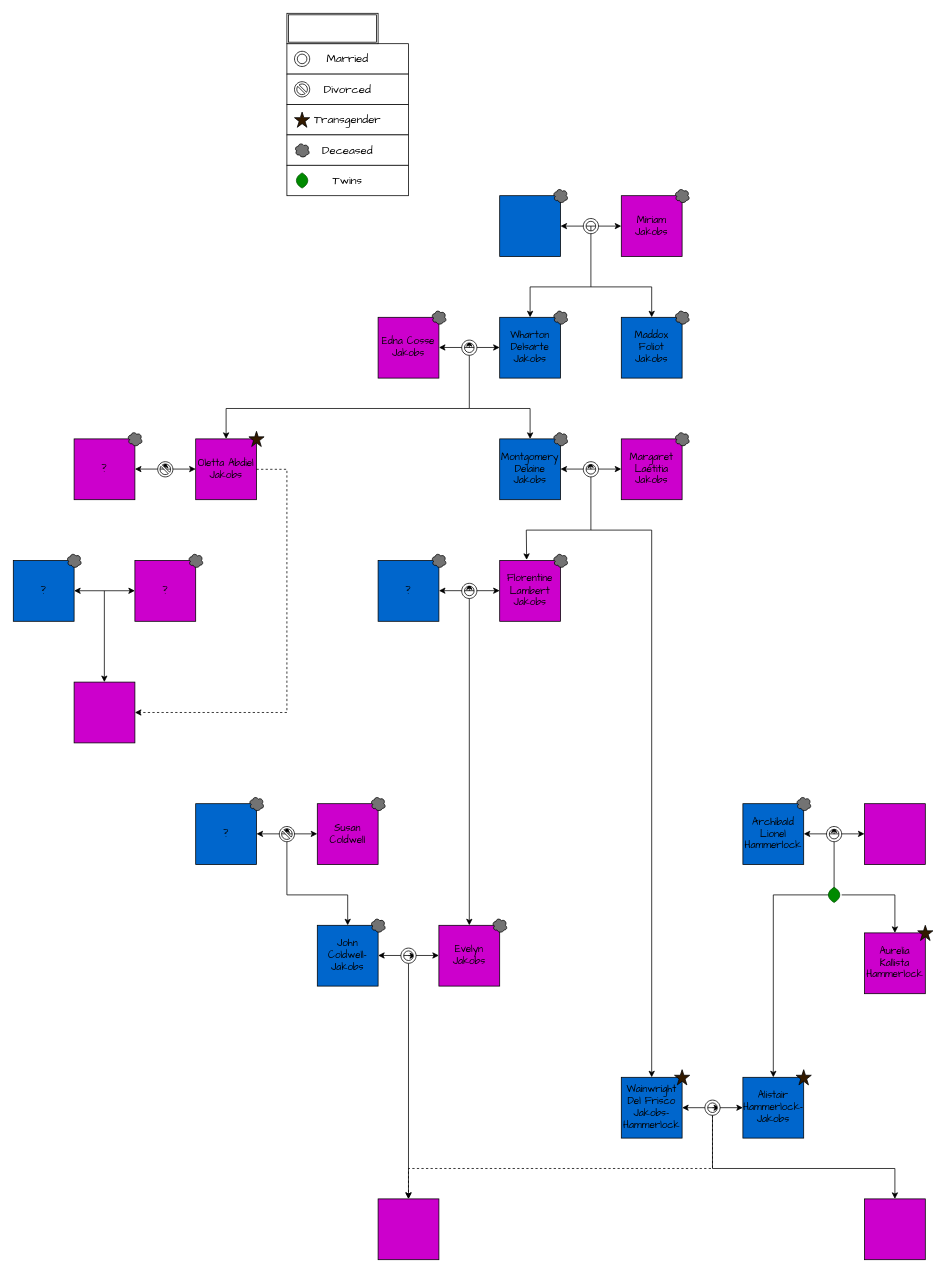
This 946x1273 diagram has some shape labels left out. The box of each missing label's shape, as (x1, y1, x2, y2) in pixels:
"Butcher" Rose: (73, 681, 135, 743)
Angel Coldwell-Jakobs: (377, 1198, 439, 1260)
Euphemia Esmé Hammerlock: (864, 803, 925, 864)
Legend: (286, 13, 378, 44)
Rebekah Gabrielle Jakobs: (864, 1198, 925, 1260)
Singleton Talbot Jakobs: (499, 195, 560, 256)
